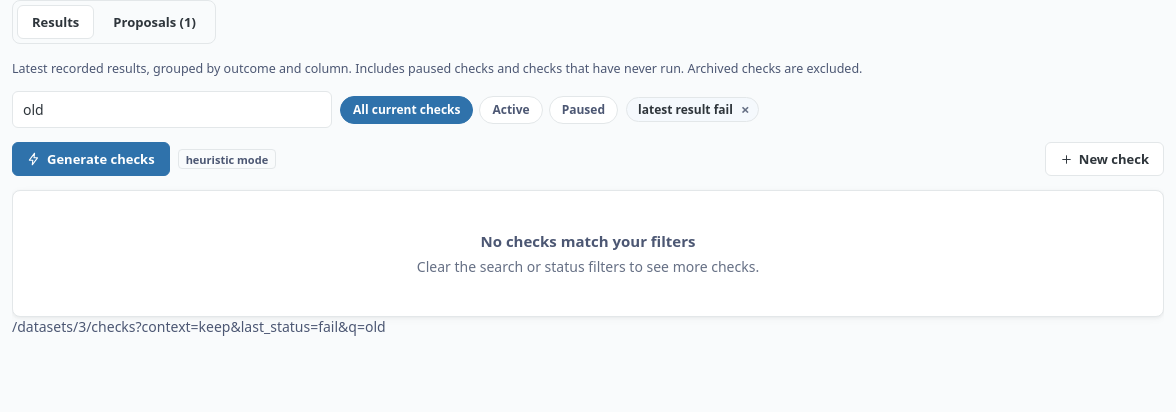
Scenario: Check results and proposals › switches generation to proposal review without activating, including heuristic mode
Click the button "Generate checks" at point(91, 159), box [12, 142, 170, 176]
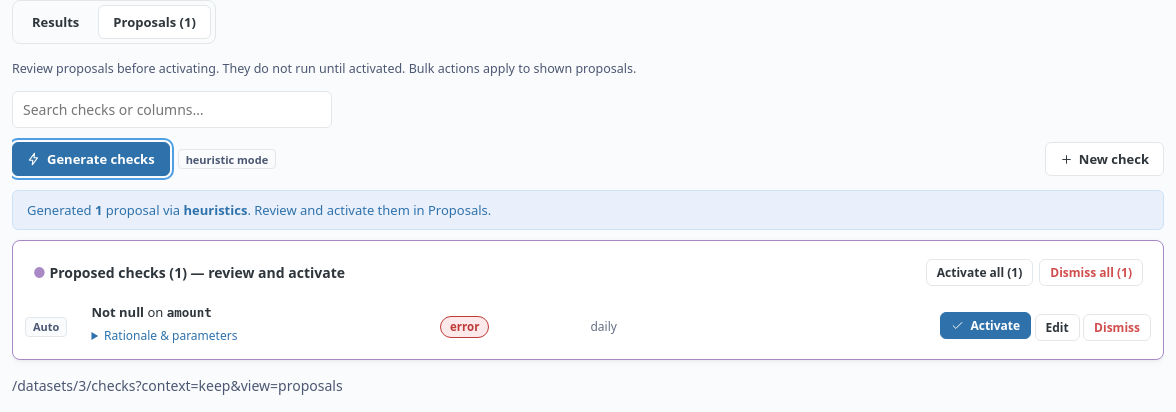
Expected: the text with test id "location" shows "context=keep", [136, 376, 343, 395]
Result: the button "Activate all (1)" is shown at [926, 259, 1033, 286]
Result: the text with test id "location" no longer shows "last_status" at [12, 376, 343, 395]
